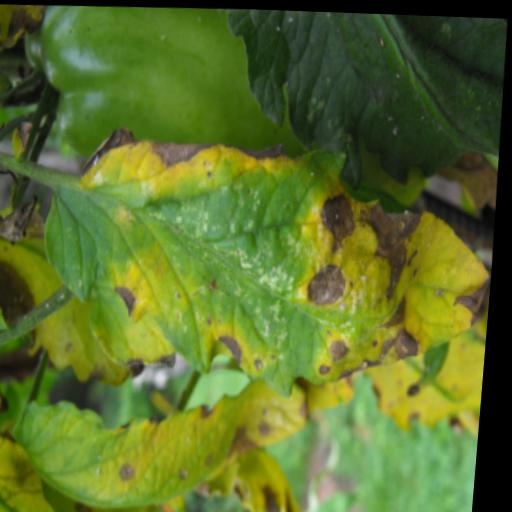Early Blight: (33, 115, 505, 396)
